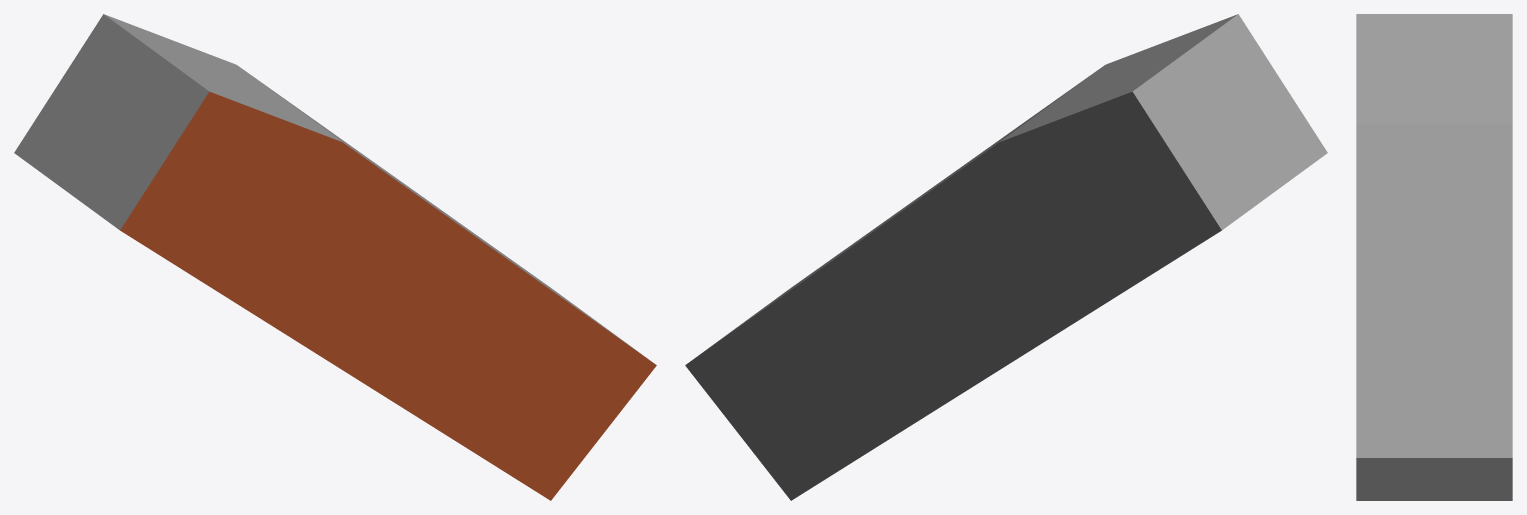
File: construction_5406_assumed_A_Casa_h6m.obj
The picture shows the model from 3 angles, left to right: view 1: azimuth 30°, elevation 25°; view 2: azimuth 150°, elevation 25°; view 3: azimuth 270°, elevation 25°; orthographic projection. The views are drawn at different scales.
Parts seen in each view (by area): view 1: construction_5406_assumed_A_Casa; view 2: construction_5406_assumed_A_Casa; view 3: construction_5406_assumed_A_Casa.
Part boxes in pixels (bbox=[...]): construction_5406_assumed_A_Casa: bbox=[14, 14, 656, 500]; construction_5406_assumed_A_Casa: bbox=[685, 14, 1327, 500]; construction_5406_assumed_A_Casa: bbox=[1356, 14, 1512, 500].
Size of the model in its own units: 17.55 by 15.39 by 6.
